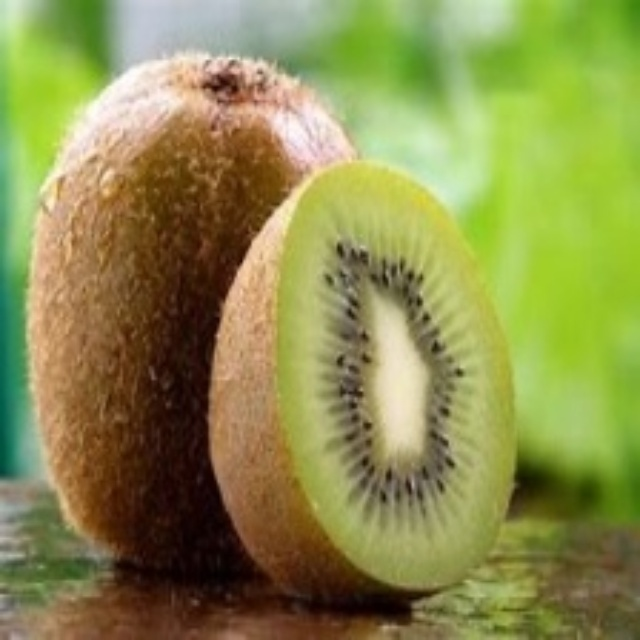kiwi: (32, 52, 355, 570), (211, 161, 522, 615)
